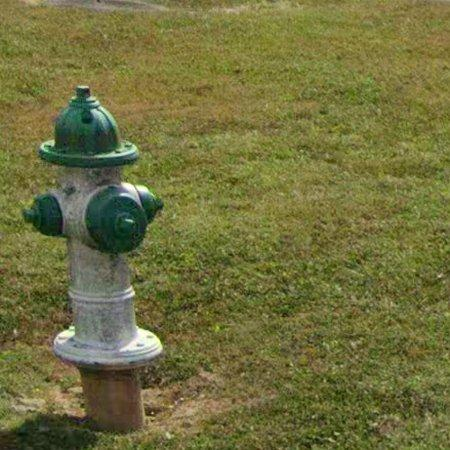a fire hydrant: (23, 86, 163, 432)
